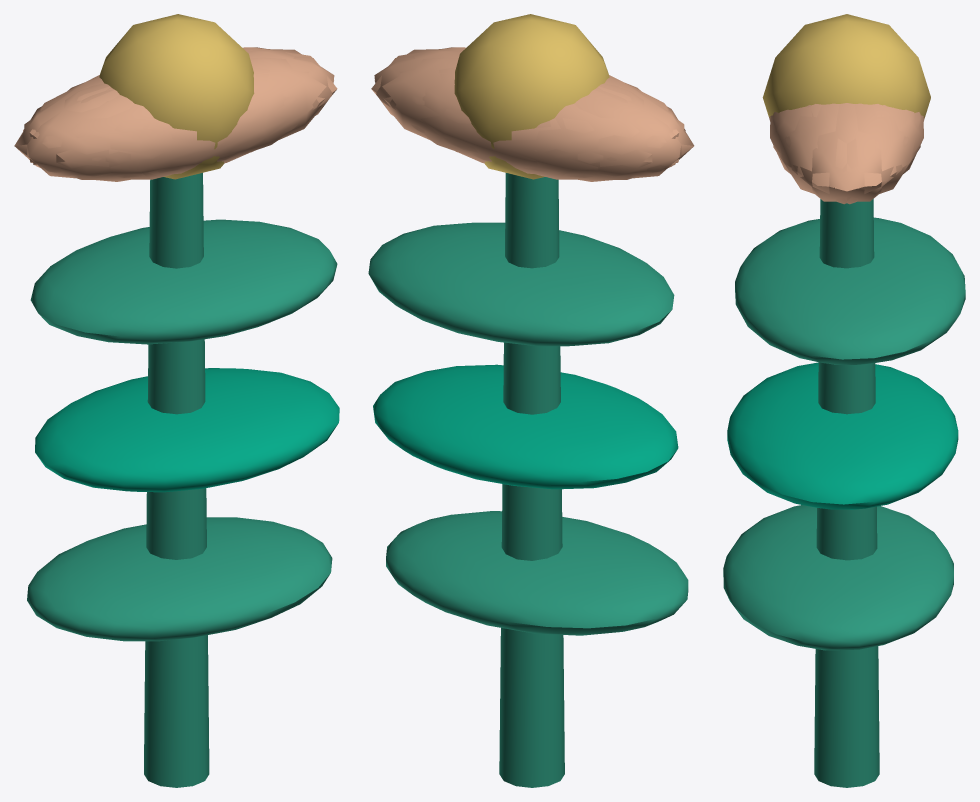
File: calliandra-haematocephala.glb
3 renders of one model, left to right at view 1: azimuth 30°, elevation 25°; view 2: azimuth 150°, elevation 25°; view 3: azimuth 270°, elevation 25°, orthographic.
Parts seen in each view (by area): view 1: leaf0, leaf1, leaf2, stem, center, petal6, petal2, petal1, petal5, petal7, petal0; view 2: leaf2, leaf1, leaf0, stem, center, petal3, petal7, petal8, petal4, petal2, petal0; view 3: leaf2, leaf1, leaf0, stem, center, petal0, petal4, petal5, petal1, petal8.
Boxes of the visible parts, left/top/right/bottom form: leaf0: left=27, top=517, right=332, bottom=641; leaf1: left=35, top=368, right=339, bottom=492; leaf2: left=30, top=219, right=337, bottom=344; stem: left=144, top=173, right=209, bottom=787; center: left=99, top=14, right=254, bottom=179; petal6: left=33, top=89, right=239, bottom=179; petal2: left=24, top=83, right=183, bottom=181; petal1: left=105, top=67, right=318, bottom=177; petal5: left=171, top=56, right=337, bottom=169; petal7: left=14, top=77, right=119, bottom=172; petal0: left=247, top=49, right=334, bottom=152; leaf2: left=368, top=222, right=674, bottom=346; leaf1: left=373, top=364, right=678, bottom=489; leaf0: left=386, top=511, right=688, bottom=635; stem: left=499, top=173, right=564, bottom=787; center: left=454, top=14, right=609, bottom=179; petal3: left=469, top=89, right=675, bottom=179; petal7: left=525, top=83, right=684, bottom=181; petal8: left=389, top=67, right=603, bottom=177; petal4: left=371, top=56, right=536, bottom=169; petal2: left=589, top=77, right=694, bottom=172; petal0: left=374, top=49, right=461, bottom=151; leaf2: left=735, top=217, right=965, bottom=364; leaf1: left=727, top=362, right=958, bottom=509; leaf0: left=723, top=505, right=953, bottom=650; stem: left=814, top=199, right=879, bottom=787; center: left=762, top=14, right=930, bottom=117; petal0: left=785, top=103, right=908, bottom=201; petal4: left=834, top=103, right=920, bottom=204; petal5: left=773, top=103, right=859, bottom=204; petal1: left=770, top=104, right=822, bottom=174; petal8: left=871, top=104, right=923, bottom=174.
Bounding box in the file's own units: 0.1541 × 0.3551 × 0.1034.
